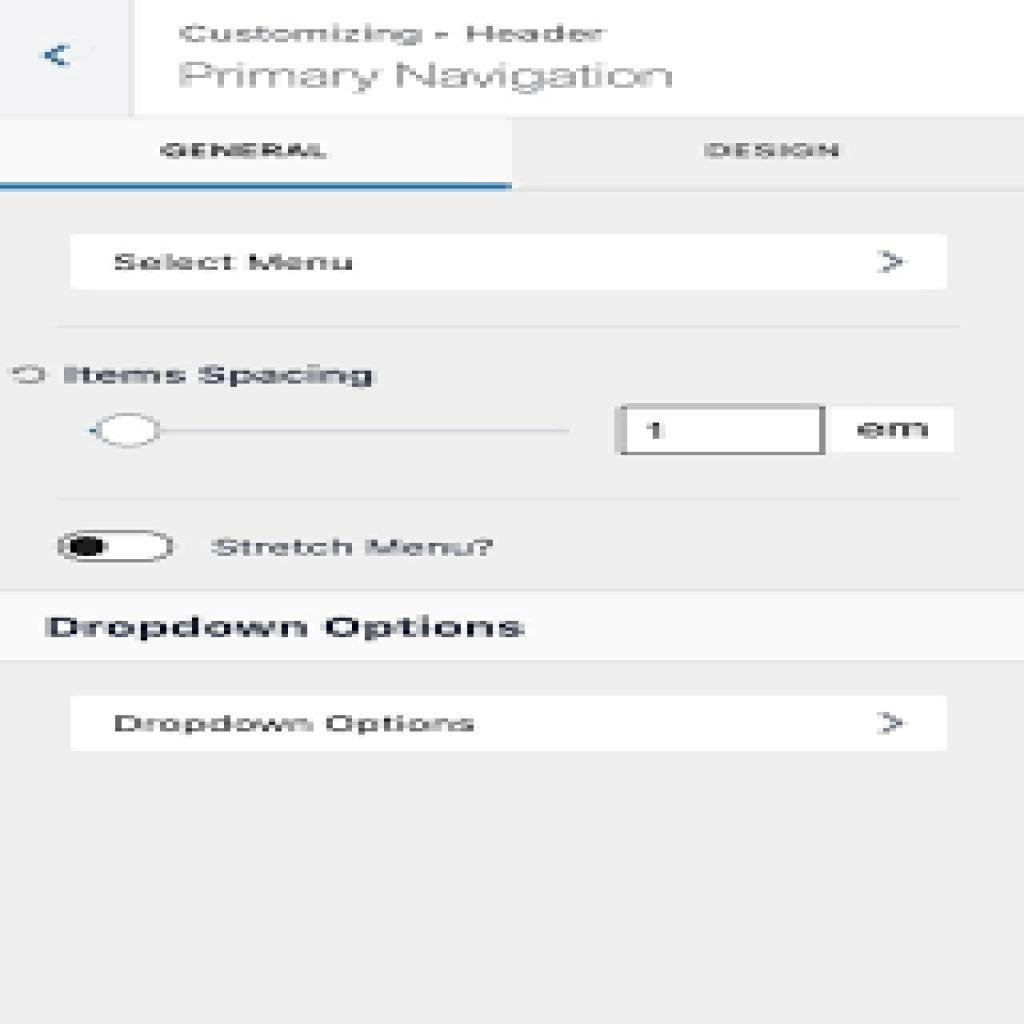icon: (38, 35, 84, 82), (871, 705, 911, 747), (875, 239, 911, 285)
slider: (80, 405, 582, 451)
switch: (54, 527, 181, 569)
